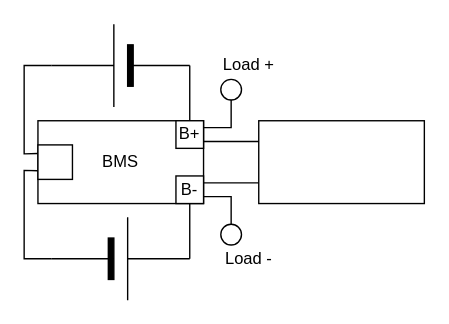
Some shapes in this 449 by 324 pixel diagram are drawn without their labels. The box of each missing label's shape, as (x1, y1, x2, y2) in pixels:
BM: (37, 144, 72, 179)
Charging board: (257, 119, 424, 204)
